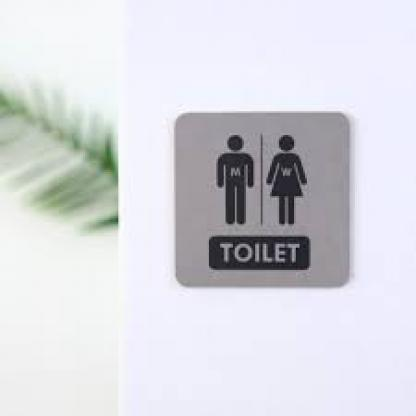toilet: (211, 130, 313, 228)
